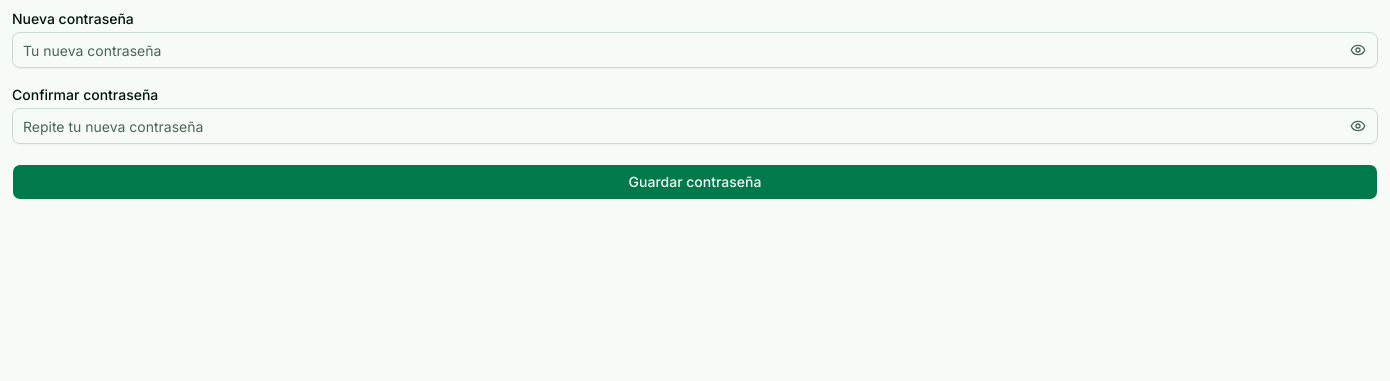
Test case: ResetPasswordForm › disables the submit button and shows the pending label while the action is in flight
Step 1. Type "Correcta1!" into the password field labelled "Nueva contraseña" → (695, 50), box [12, 32, 1378, 68]
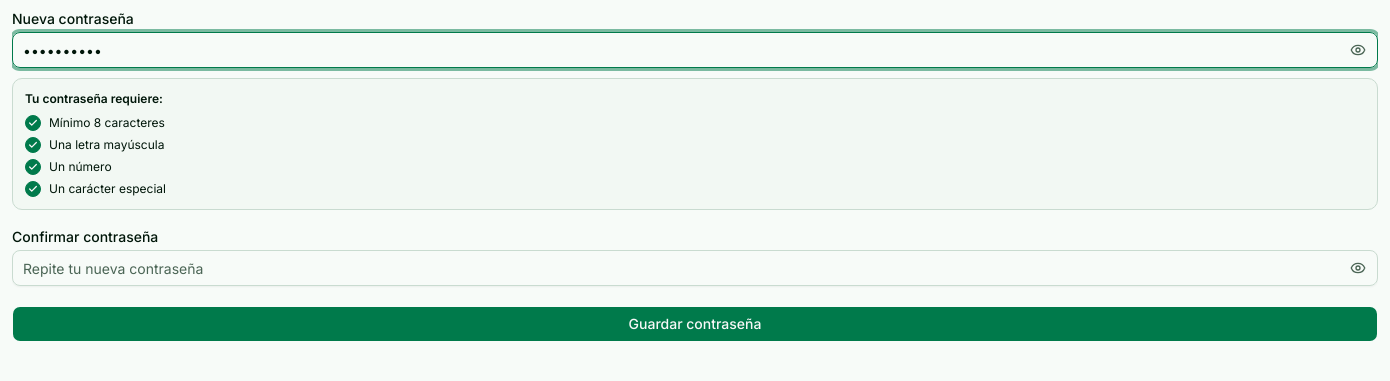
Step 2. Type "Correcta1!" into the password field labelled "Confirmar contraseña" → (695, 268), box [12, 250, 1378, 286]
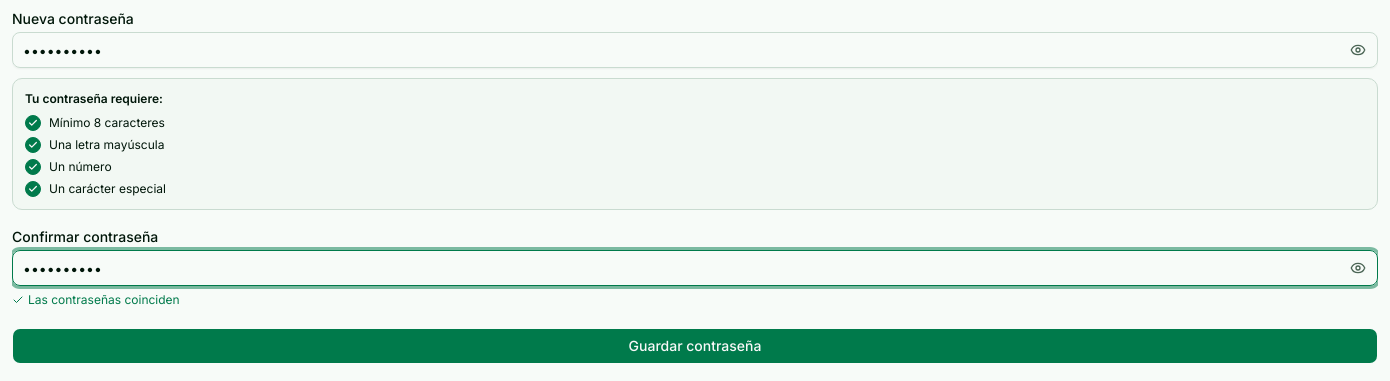
Step 3. Click the button "Guardar contraseña" → click(695, 346), box [12, 328, 1378, 364]
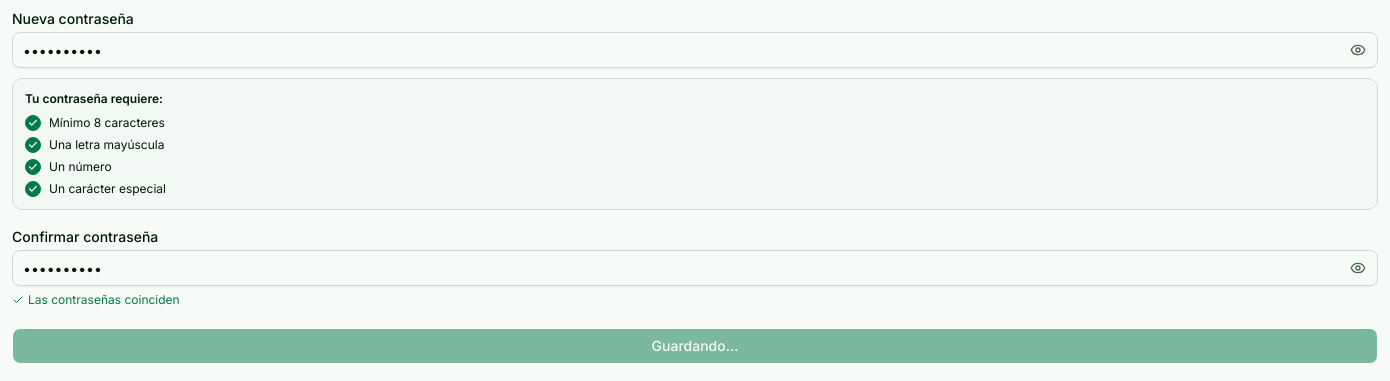
Check: the button "Guardando..." is disabled, box [12, 328, 1378, 364]
